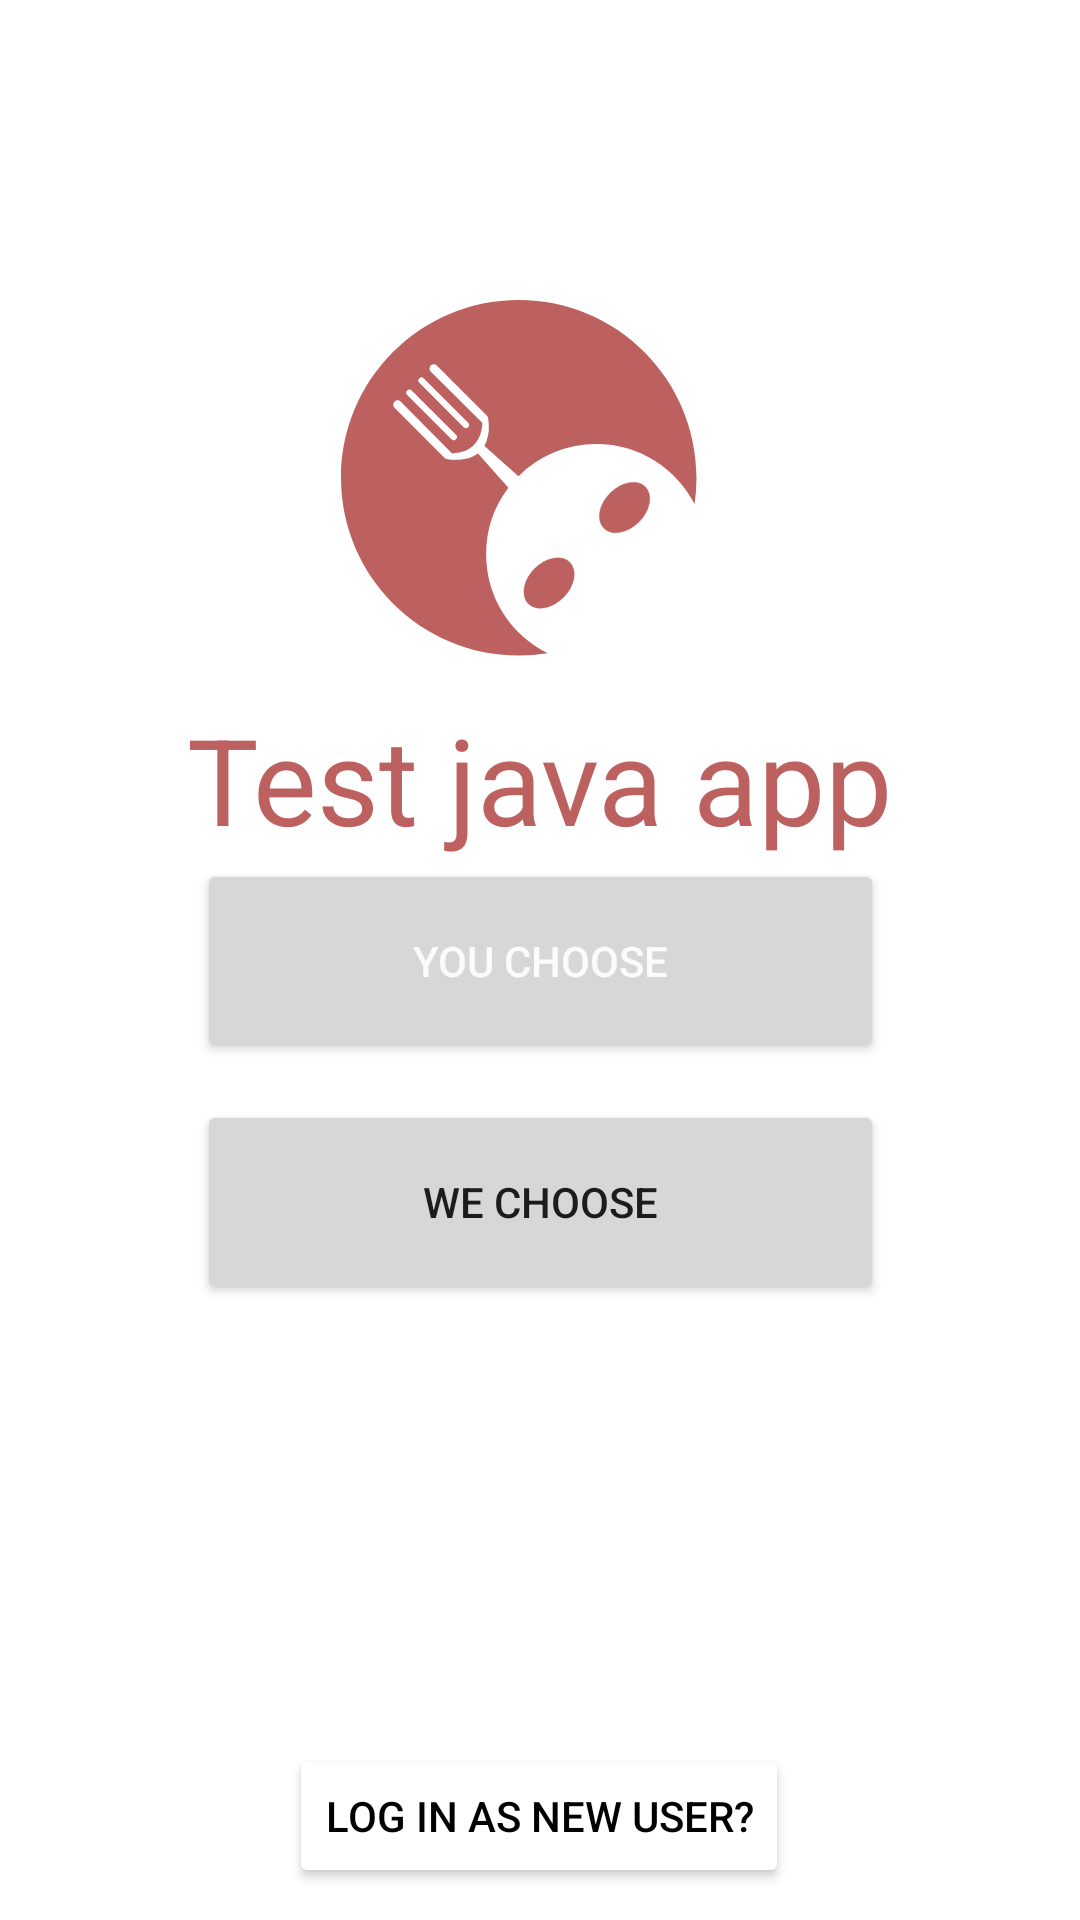

Named icons in this screenshot (1080px x 1920px) and their centers, [x,y]:
lunchbot: [519,478]
